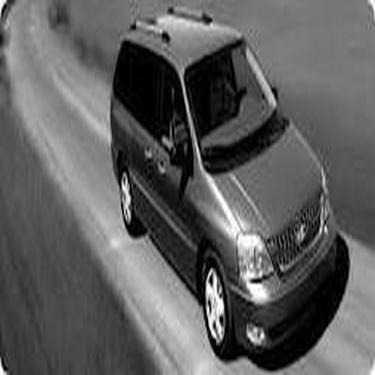car: (94, 4, 347, 367)
